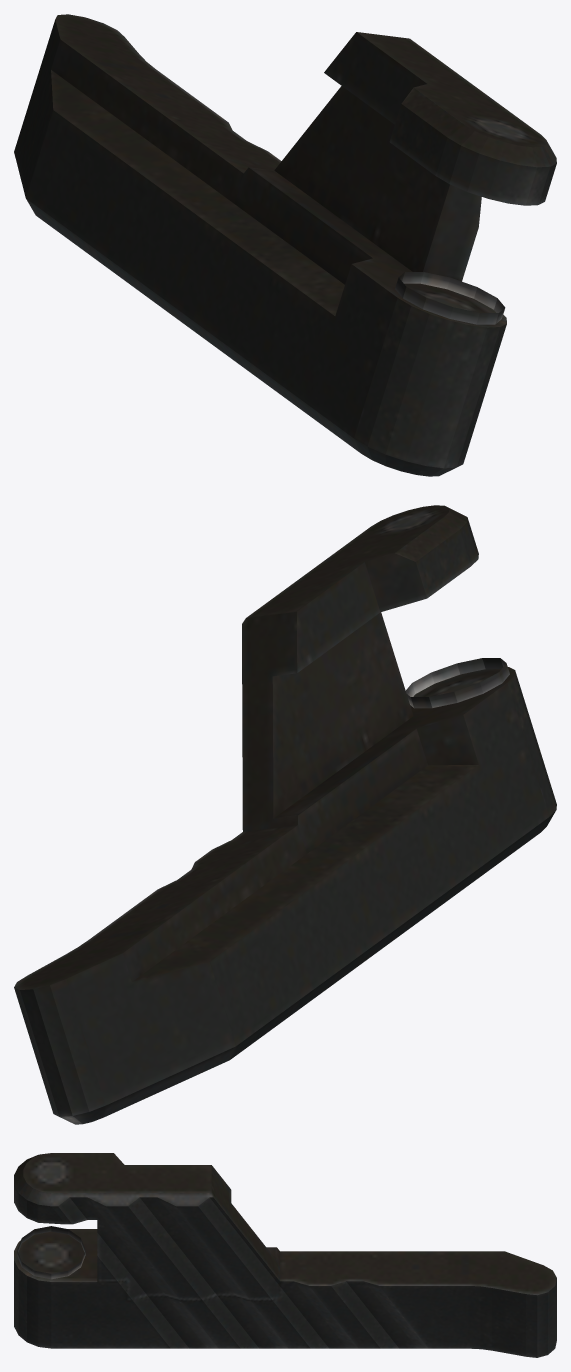
3 views of the same model, one above another, from view 1: azimuth 30°, elevation 25°; view 2: azimuth 150°, elevation 25°; view 3: azimuth 270°, elevation 25° (orthographic). The views are drawn at different scales.
Visible parts, largest first — view 1: TW_5fc22d7c187fea44d52eda44_PZ_Import; view 2: TW_5fc22d7c187fea44d52eda44_PZ_Import; view 3: TW_5fc22d7c187fea44d52eda44_PZ_Import.
Part boxes in pixels (x1=…): TW_5fc22d7c187fea44d52eda44_PZ_Import: x1=14, y1=14, x2=556, y2=476; TW_5fc22d7c187fea44d52eda44_PZ_Import: x1=14, y1=505, x2=556, y2=1124; TW_5fc22d7c187fea44d52eda44_PZ_Import: x1=14, y1=1153, x2=556, y2=1357.
Bounding box in the file's own units: 0.011 × 0.0432 × 0.0182.
Materials: 1 (1 with a texture image).
